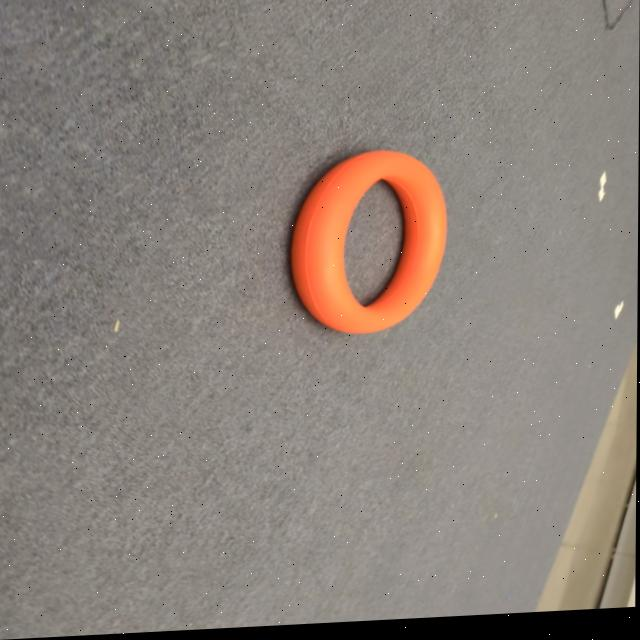note: (288, 153, 446, 337)
